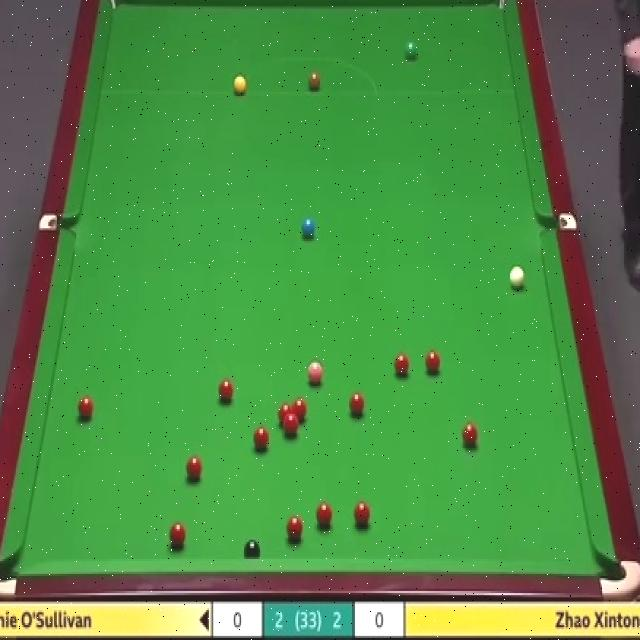black-ball: (243, 540, 261, 559)
blue-ball: (300, 213, 316, 240)
brown-ball: (308, 72, 320, 91)
green-ball: (402, 41, 418, 61)
pink-ball: (307, 357, 324, 385)
red-ball: (77, 394, 96, 424), (392, 351, 410, 382), (168, 521, 186, 549), (185, 454, 202, 483), (354, 500, 371, 528), (461, 424, 478, 452), (316, 502, 333, 529), (217, 379, 234, 405), (287, 515, 303, 542), (348, 391, 364, 418), (292, 399, 308, 425), (253, 426, 269, 451), (424, 352, 440, 377), (284, 416, 298, 437), (279, 403, 292, 424)
white-ball: (508, 263, 527, 293)
yellow-ball: (232, 74, 246, 95)
